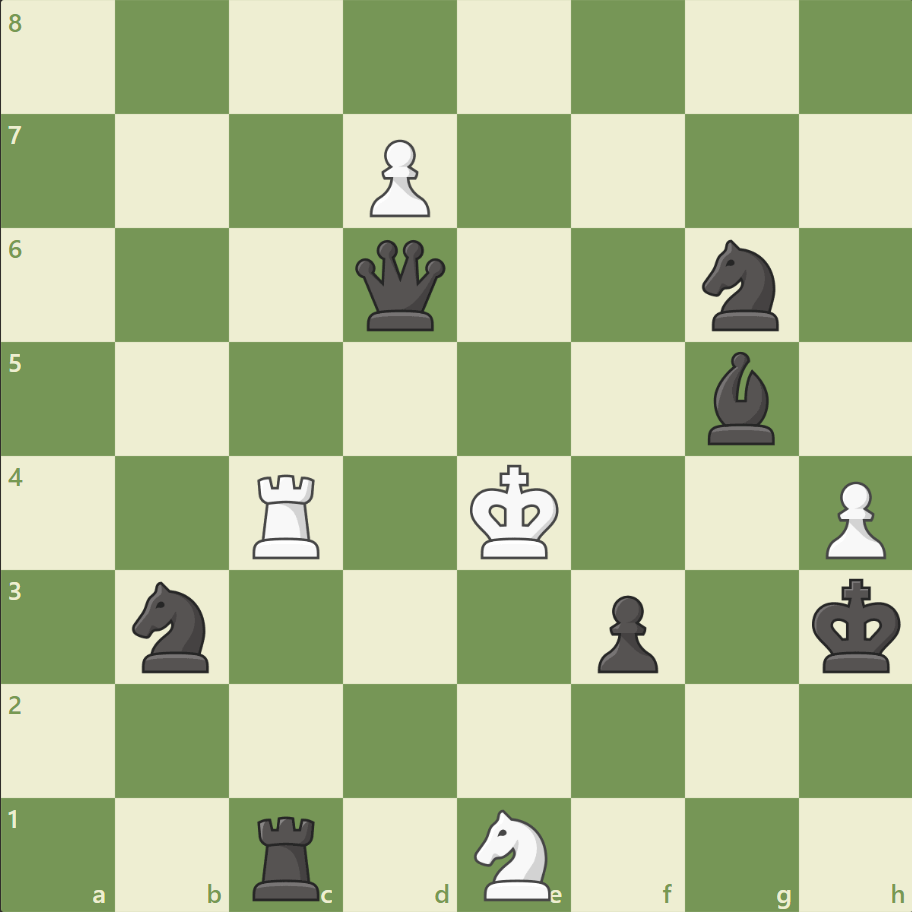K: (465, 458, 565, 566)
N: (465, 802, 562, 904)
P: (361, 132, 435, 223), (815, 473, 889, 564)
R: (246, 466, 329, 563)
b: (698, 347, 782, 449)
k: (806, 571, 906, 679)
n: (124, 575, 222, 677), (692, 234, 789, 337)
p: (588, 586, 662, 677)
q: (351, 236, 450, 335)
r: (246, 806, 329, 904)
